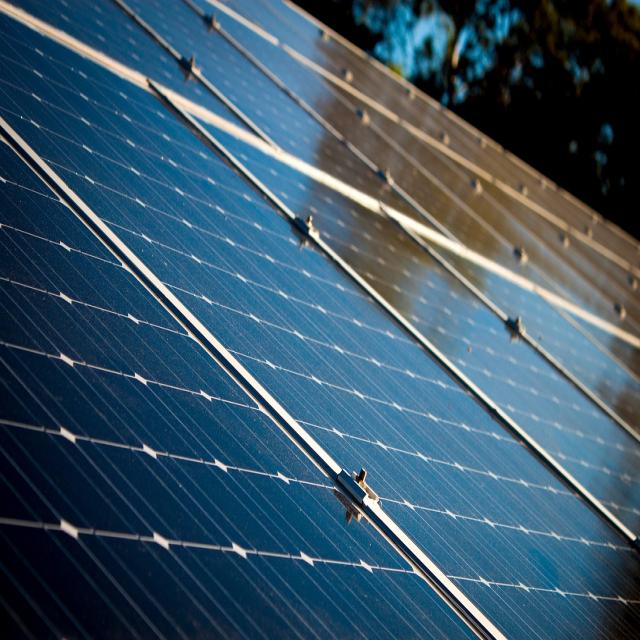clean-solar-panel: (1, 2, 640, 637)
